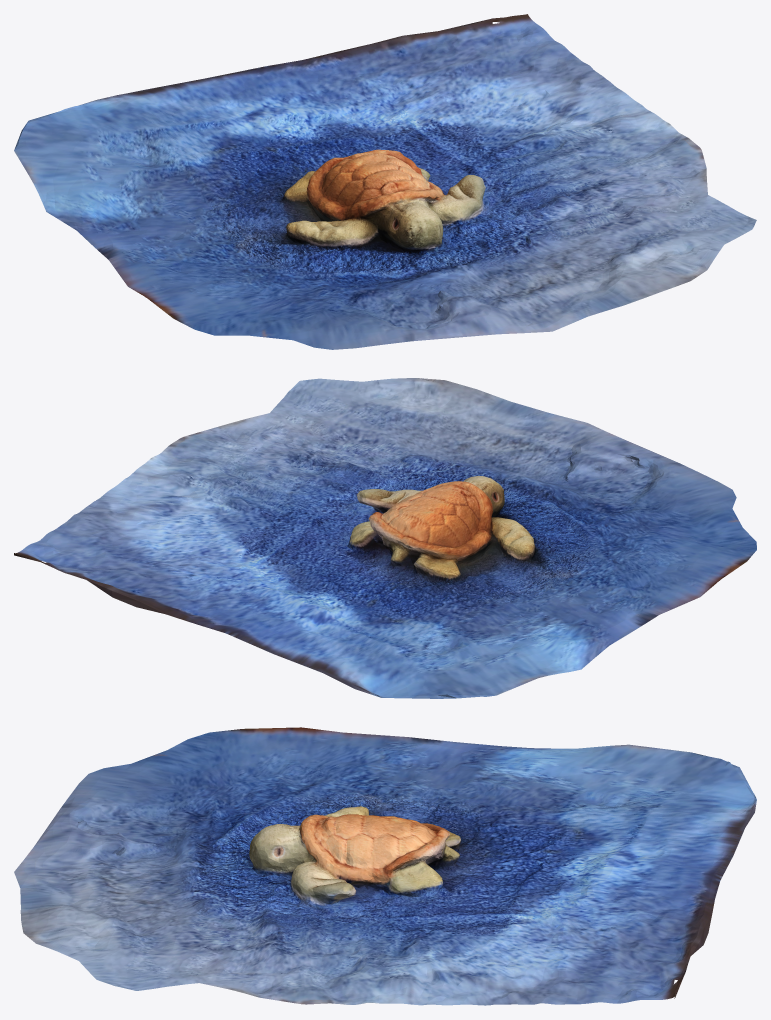
3 views of the same model, one above another, from view 1: azimuth 30°, elevation 25°; view 2: azimuth 150°, elevation 25°; view 3: azimuth 270°, elevation 25° (orthographic). The views are drawn at different scales.
Size of the model in its own units: 2.84 by 0.2512 by 3.07.
Materials: 1 (1 with a texture image).
